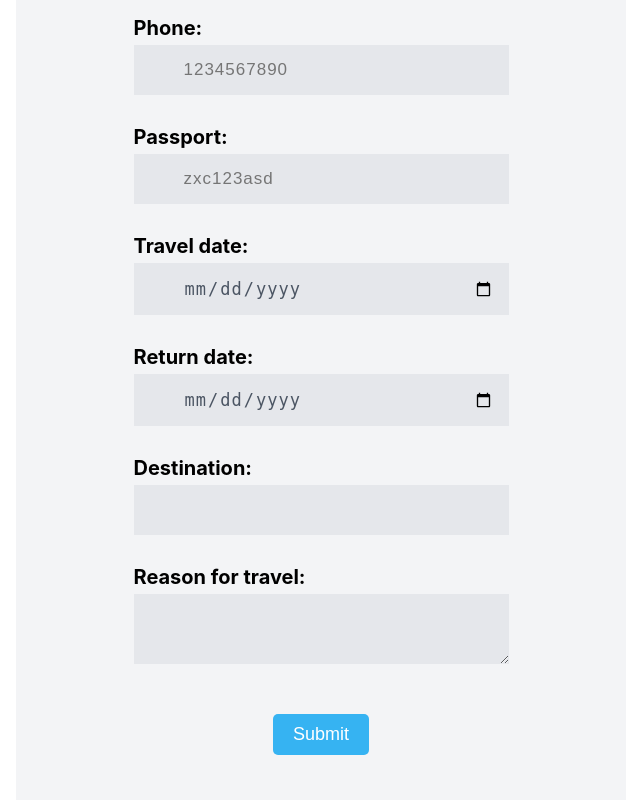
Test: Registrationform › should display required error messages on form submit
(page scrolled)
Click the button "Submit".
click(321, 734)  # box [273,714,369,755]
(page scrolled)
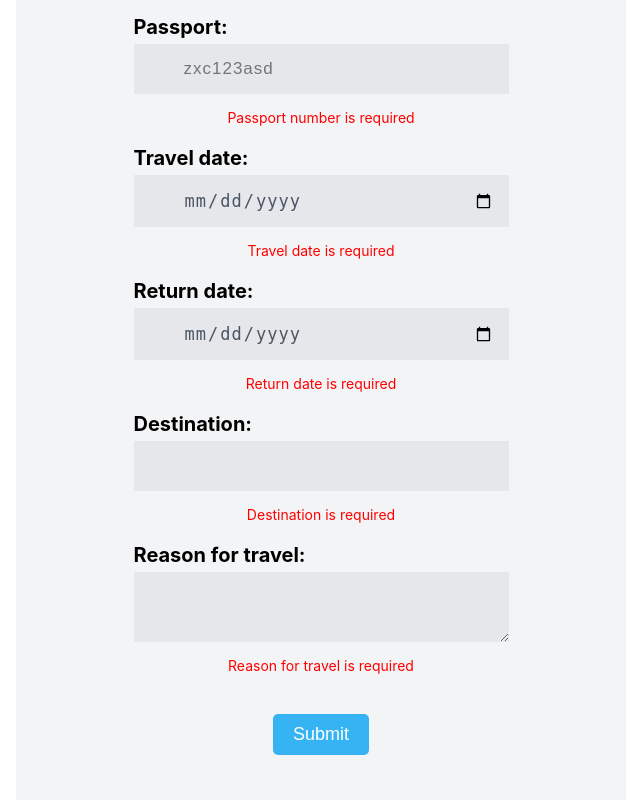
Expected: the text "Passport number is required" is shown, [227,109,415,126]
Expected: the text "Travel date is required" is shown, [247,242,395,259]
Expected: the text "Return date is required" is shown, [246,375,396,392]
